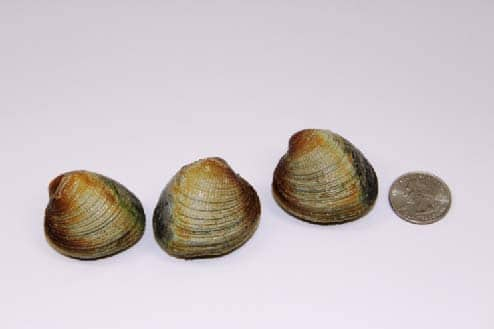cockle: (151, 153, 260, 265), (271, 127, 381, 226), (40, 166, 148, 264)
